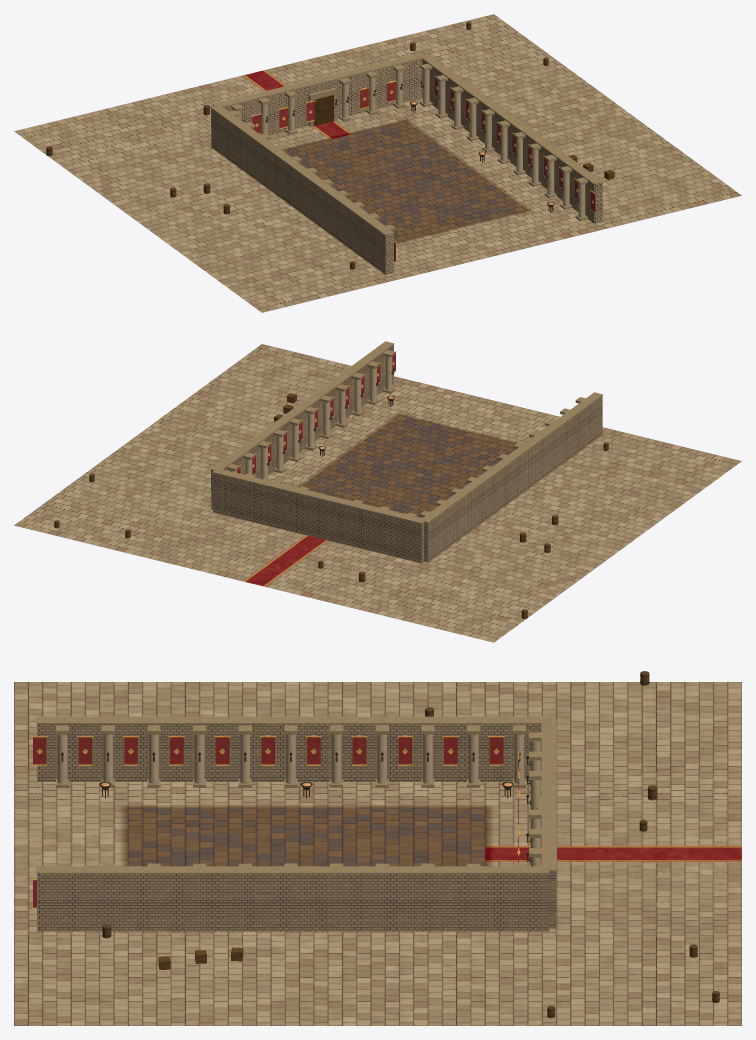
File: surroundings_13x23.glb
3 renders of one model, top to bottom at view 1: azimuth 30°, elevation 25°; view 2: azimuth 150°, elevation 25°; view 3: azimuth 270°, elevation 25°, orthographic. The views are drawn at different scales.
Parts seen in each view (by area): view 1: ground, props; view 2: ground, props; view 3: ground, props.
Boxes of the visible parts, x1=… form: ground: x1=14, y1=14, x2=741, y2=312; props: x1=46, y1=21, x2=614, y2=274; ground: x1=14, y1=344, x2=741, y2=642; props: x1=54, y1=341, x2=608, y2=618; ground: x1=14, y1=682, x2=741, y2=1025; props: x1=31, y1=671, x2=719, y2=1018.
Size of the model in its own units: 57.04 by 4.77 by 51.
2 materials, 2 textured.
